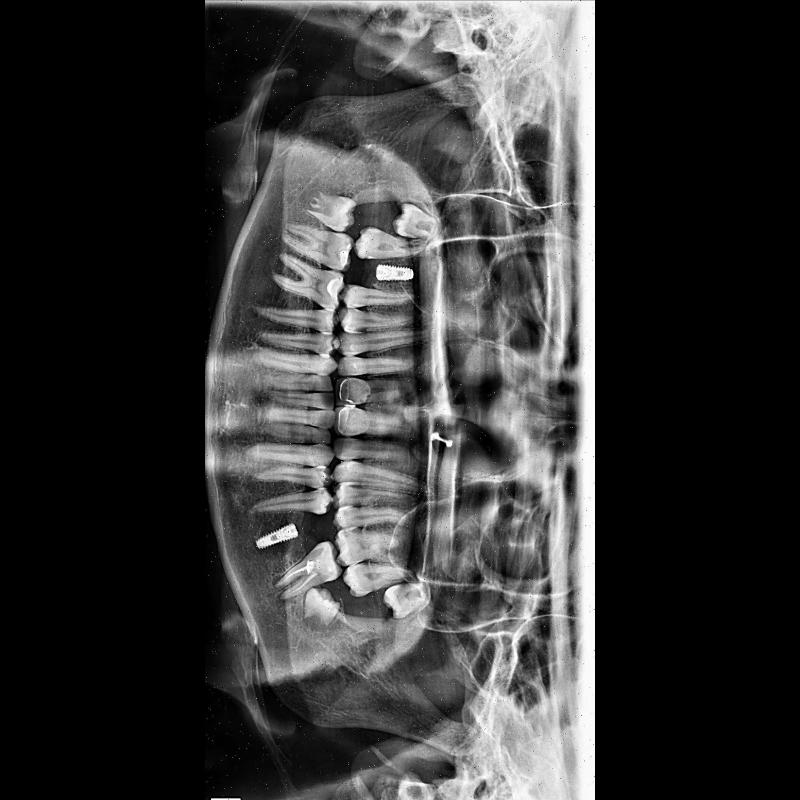osstem: (253, 524, 301, 552), (373, 262, 419, 288)
